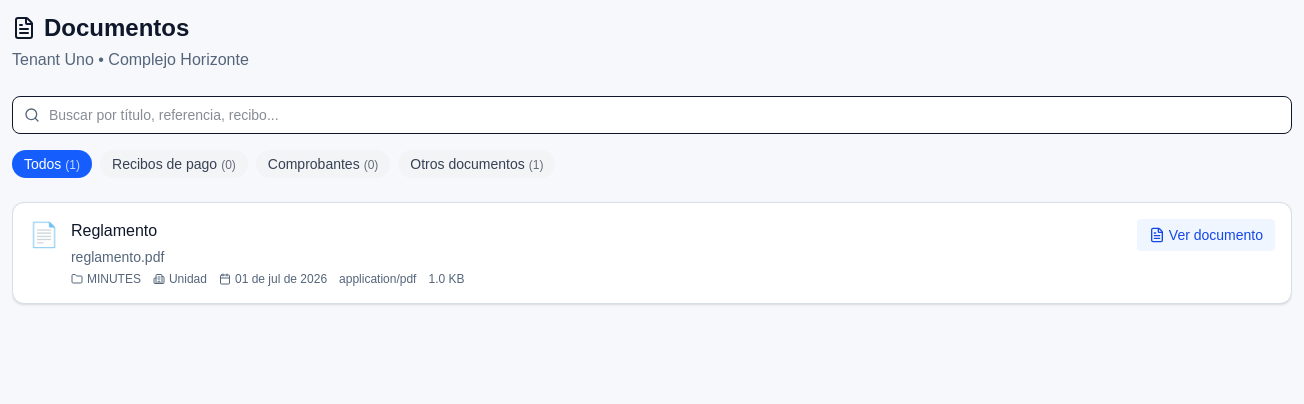
Test: ResidentDocumentsPage › Search › shows empty state when search matches nothing
Type "xyz123" into the field with placeholder "Buscar por título, referencia, recibo...".
click(652, 115); type("xyz123")  # box left=12, top=96, right=1292, bottom=134
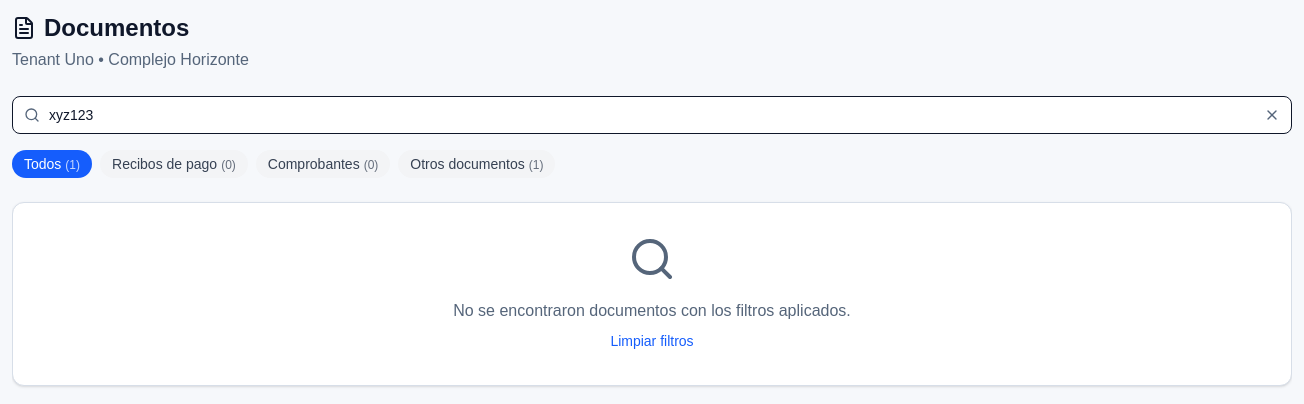
Expected: the text "No se encontraron documentos con los filtros aplicados." is shown, left=453, top=302, right=851, bottom=319
